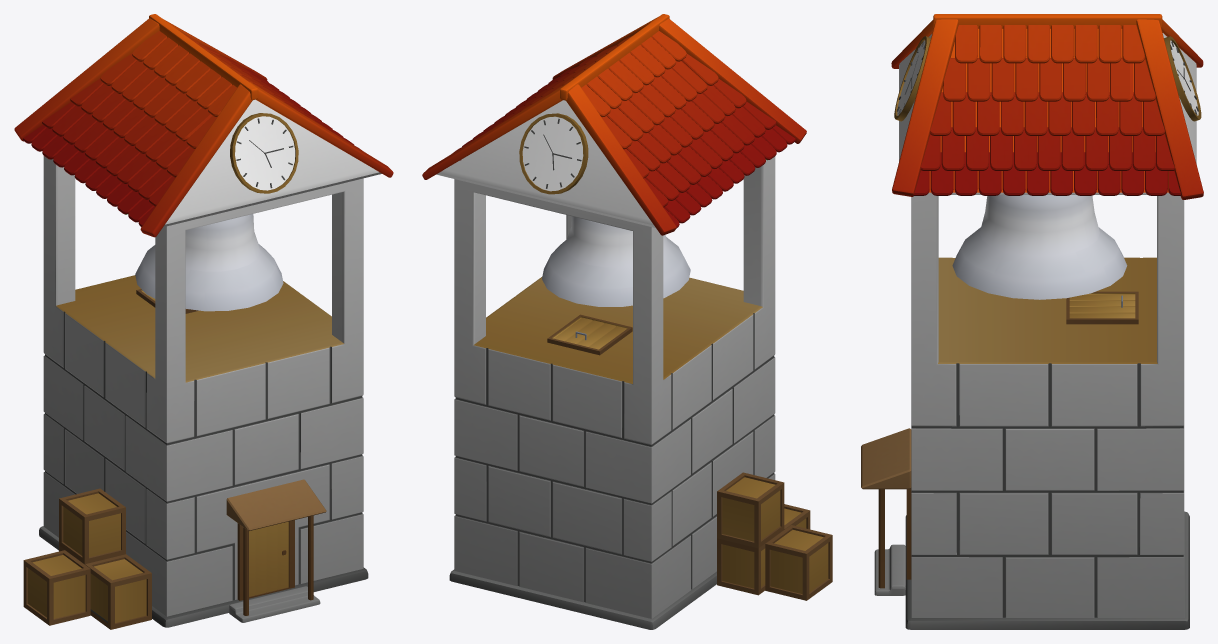
Rendered from belltower.fbx.
The picture shows the model from 3 angles, left to right: view 1: azimuth 30°, elevation 25°; view 2: azimuth 150°, elevation 25°; view 3: azimuth 270°, elevation 25°; orthographic projection. The views are drawn at different scales.
Parts seen in each view (by area): view 1: belltower1; view 2: belltower1; view 3: belltower1.
Part boxes in pixels (<box>): belltower1: <box>14,14,393,629</box>; belltower1: <box>422,14,832,629</box>; belltower1: <box>861,14,1203,629</box>.
Bounding box in the file's own units: 3.76 × 5.86 × 3.25.
